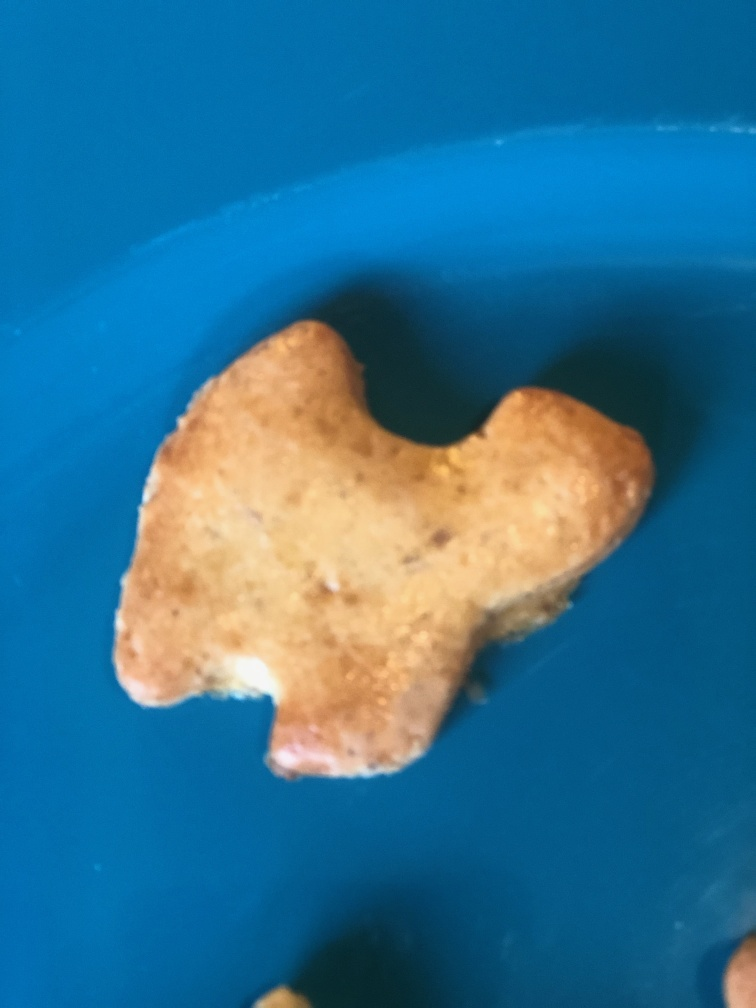lamb: (110, 317, 656, 783)
